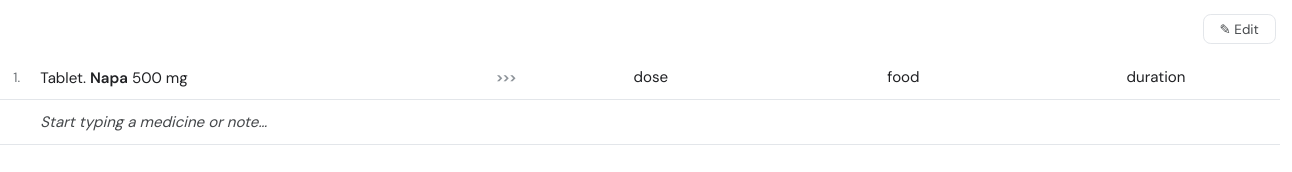
Test: MedicinePad — BAN writes a committed cell in Bangla › on Enter: the food the physician's table names
Type "Before meal" into the text box with placeholder "food". click: (903, 78)
box: [779,60,1028,95]
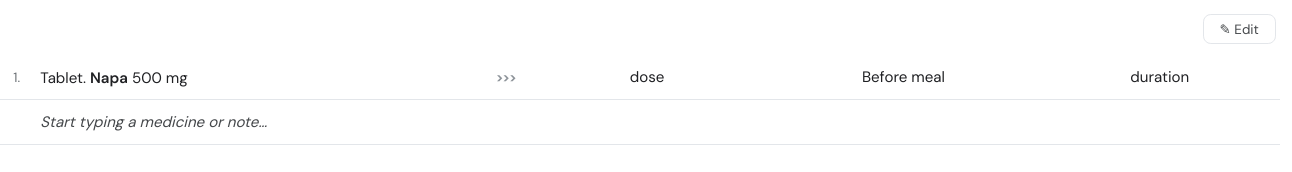
Press Enter in the text box with placeholder "food", box [772,60,1035,95]
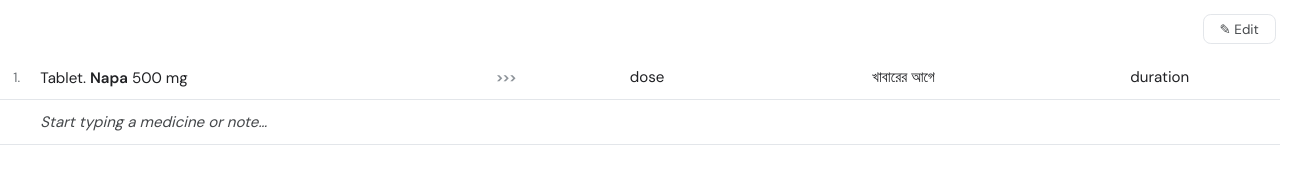
expect the text box with placeholder "food" holds "খাবারের আগে": met, box [772,60,1035,95]
